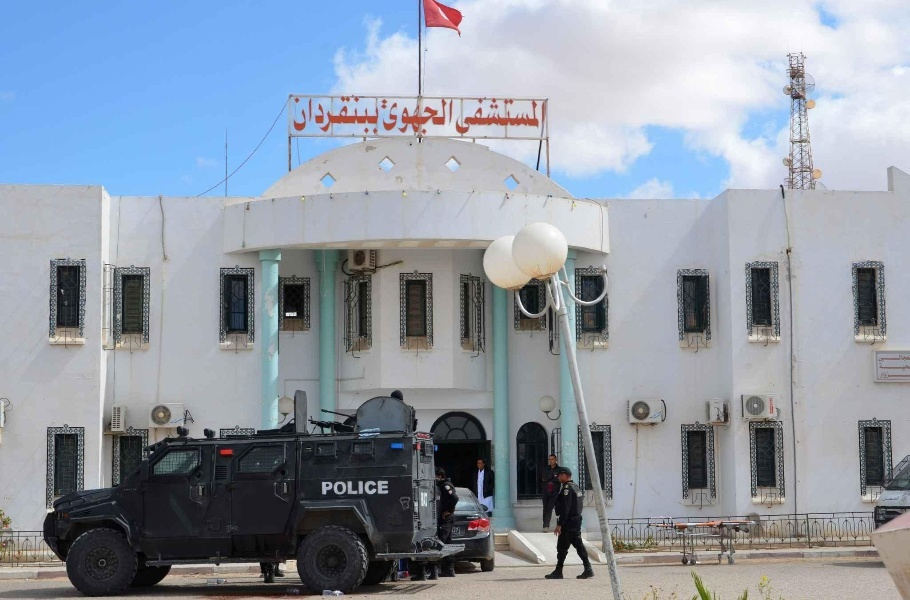text: (305, 96, 320, 135), (321, 96, 336, 135), (337, 96, 352, 135), (353, 96, 368, 135), (465, 97, 480, 134), (481, 97, 496, 134), (497, 97, 512, 134), (513, 97, 528, 134), (529, 97, 544, 134), (385, 98, 400, 134), (401, 98, 416, 134), (417, 98, 432, 134), (433, 98, 448, 134), (293, 96, 304, 135), (369, 96, 379, 135), (456, 97, 464, 134), (337, 481, 352, 496), (353, 481, 368, 496), (369, 481, 384, 496), (322, 481, 336, 496), (771, 398, 784, 414), (421, 493, 432, 508), (881, 362, 896, 372), (449, 98, 453, 134), (897, 362, 910, 372), (881, 355, 896, 362), (881, 371, 896, 378), (897, 355, 910, 362), (897, 371, 909, 378), (382, 98, 384, 134), (452, 528, 464, 534), (385, 481, 389, 496), (887, 496, 896, 501), (545, 97, 546, 134), (897, 496, 900, 501), (879, 362, 880, 372), (879, 355, 880, 362)
